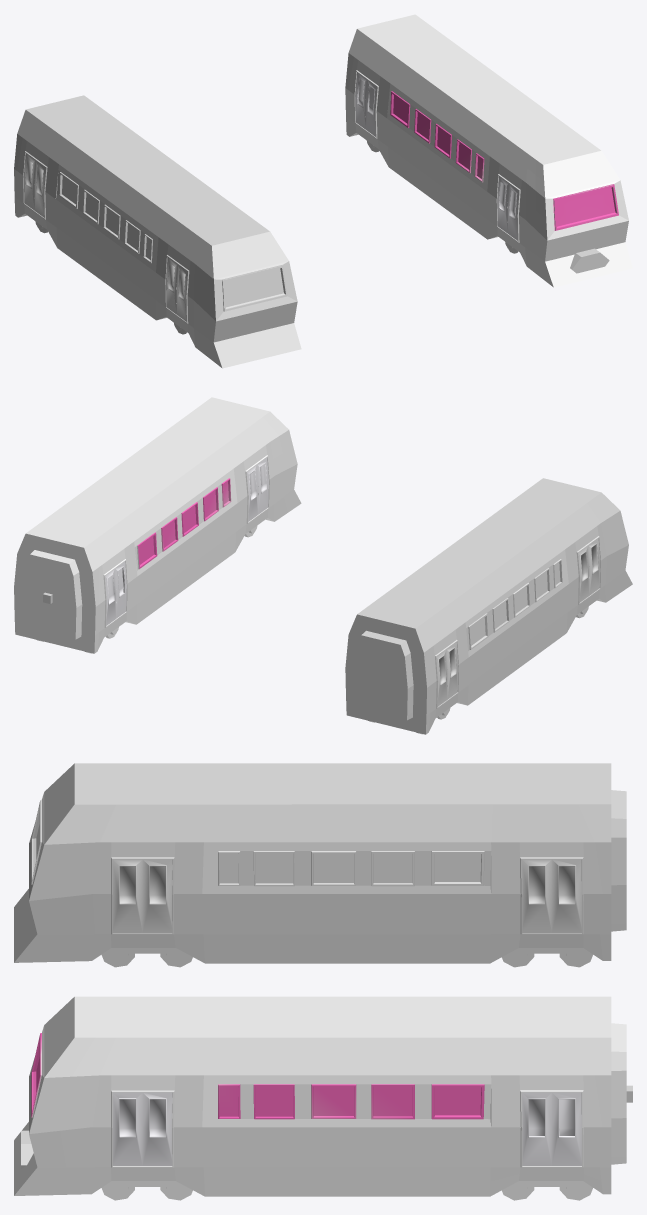
The model's file is Train 5.fbx.
3 views of the same model, one above another, from view 1: azimuth 30°, elevation 25°; view 2: azimuth 150°, elevation 25°; view 3: azimuth 270°, elevation 25° (orthographic). The views are drawn at different scales.
Parts seen in each view (by area): view 1: Cube.004, Cube.005, Cylinder; view 2: Cube.004, Cube.005; view 3: Cube.004, Cube.005.
Part boxes in pixels (box(x1,y1,x2,y2)): Cube.004: box(14, 95, 301, 368); Cube.005: box(345, 14, 632, 287); Cylinder: box(570, 248, 609, 273); Cube.004: box(345, 478, 632, 734); Cube.005: box(14, 397, 301, 653); Cube.004: box(14, 763, 626, 967); Cube.005: box(14, 996, 626, 1200).
Size of the model in its own units: 2693 by 712 by 2413.
